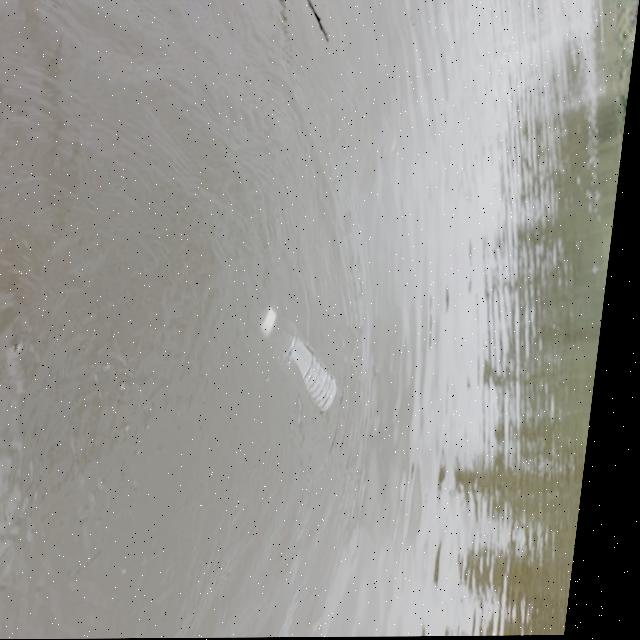waterbottle: (233, 294, 364, 426)
